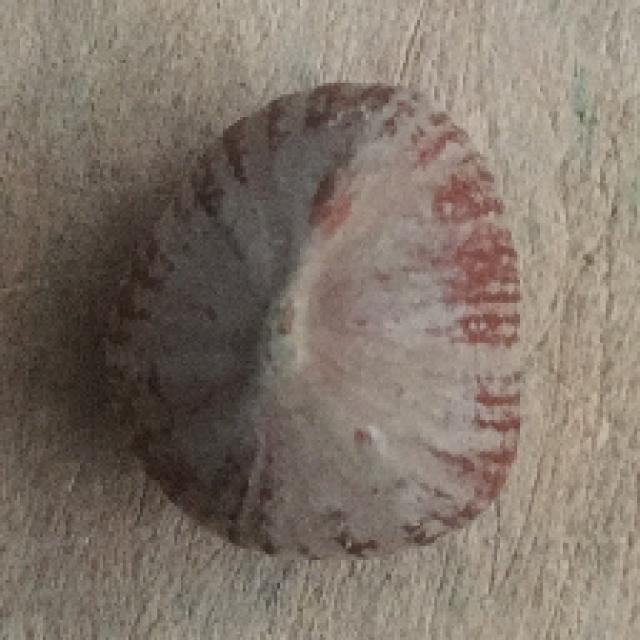qualityHazelnut: (101, 73, 535, 559)
